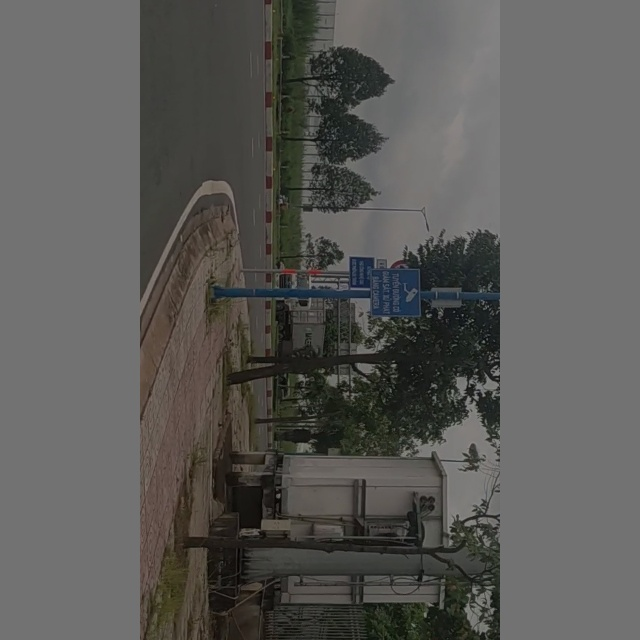Camera: (368, 268, 425, 320)
